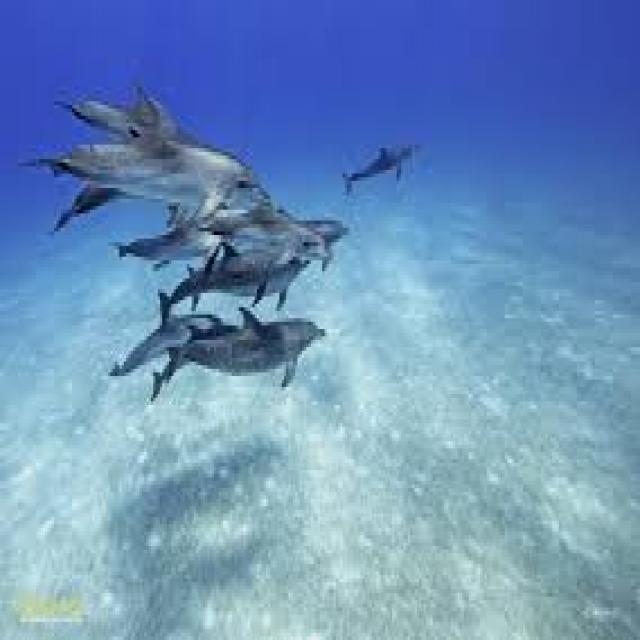dolphin: (79, 112, 275, 238), (147, 318, 340, 441)
